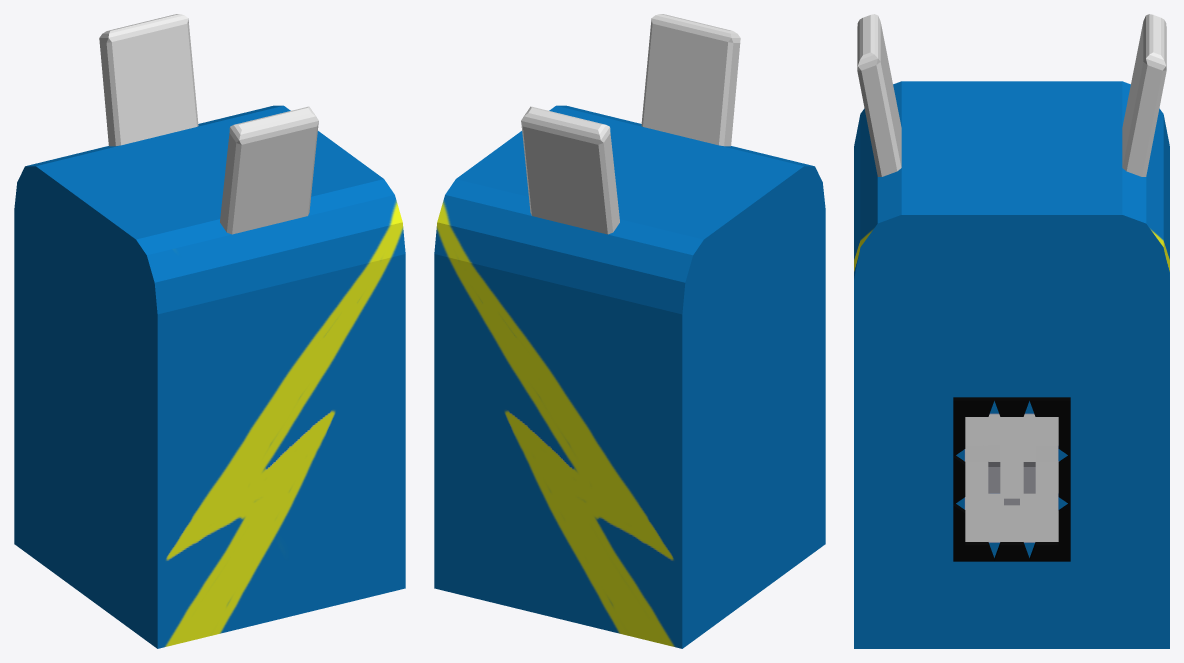
File: kapine_kauko.fbx
3 views of the same model, side by side, from view 1: azimuth 30°, elevation 25°; view 2: azimuth 150°, elevation 25°; view 3: azimuth 270°, elevation 25° (orthographic). The views are drawn at different scales.
Visible parts, largest first — view 1: Cube; view 2: Cube; view 3: Cube.
Part boxes in pixels (x1,y1,x2,y2): Cube: [14, 14, 405, 648]; Cube: [434, 14, 825, 648]; Cube: [854, 14, 1169, 648].
Bounding box in the file's own units: 205 × 383 × 200.
1 material, 1 textured.
